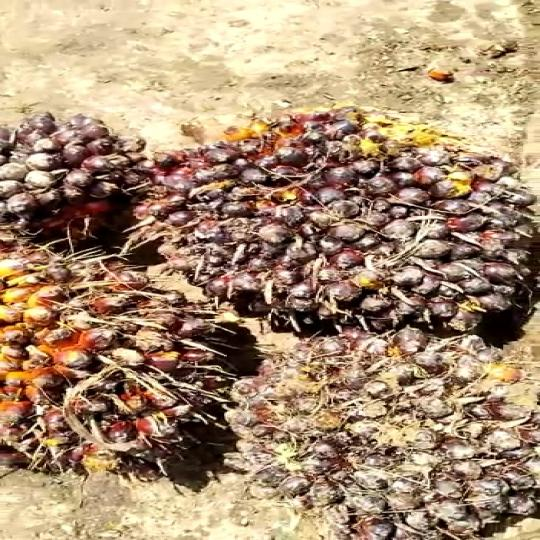kurang masak: (142, 102, 540, 328), (247, 331, 540, 540), (0, 236, 253, 477)
